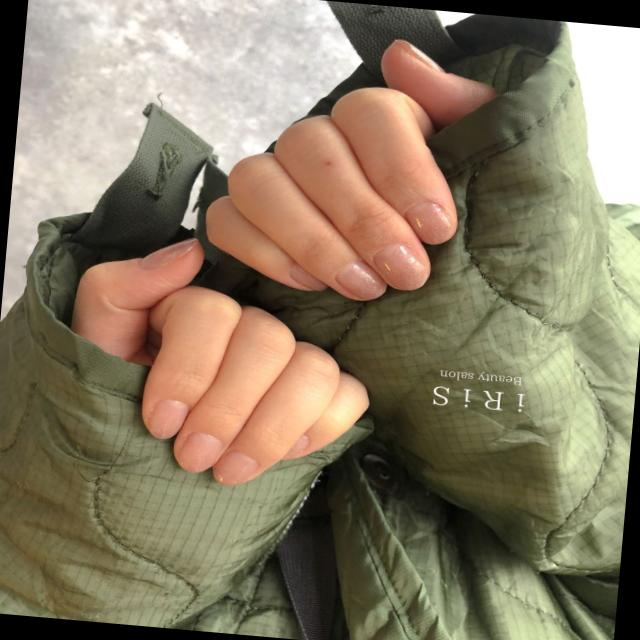Nail: (371, 243, 428, 289), (403, 200, 452, 242), (333, 260, 384, 298), (137, 237, 196, 269), (177, 431, 222, 471), (145, 398, 187, 438), (211, 450, 258, 484), (396, 39, 443, 71), (288, 265, 327, 290), (282, 433, 308, 458)
